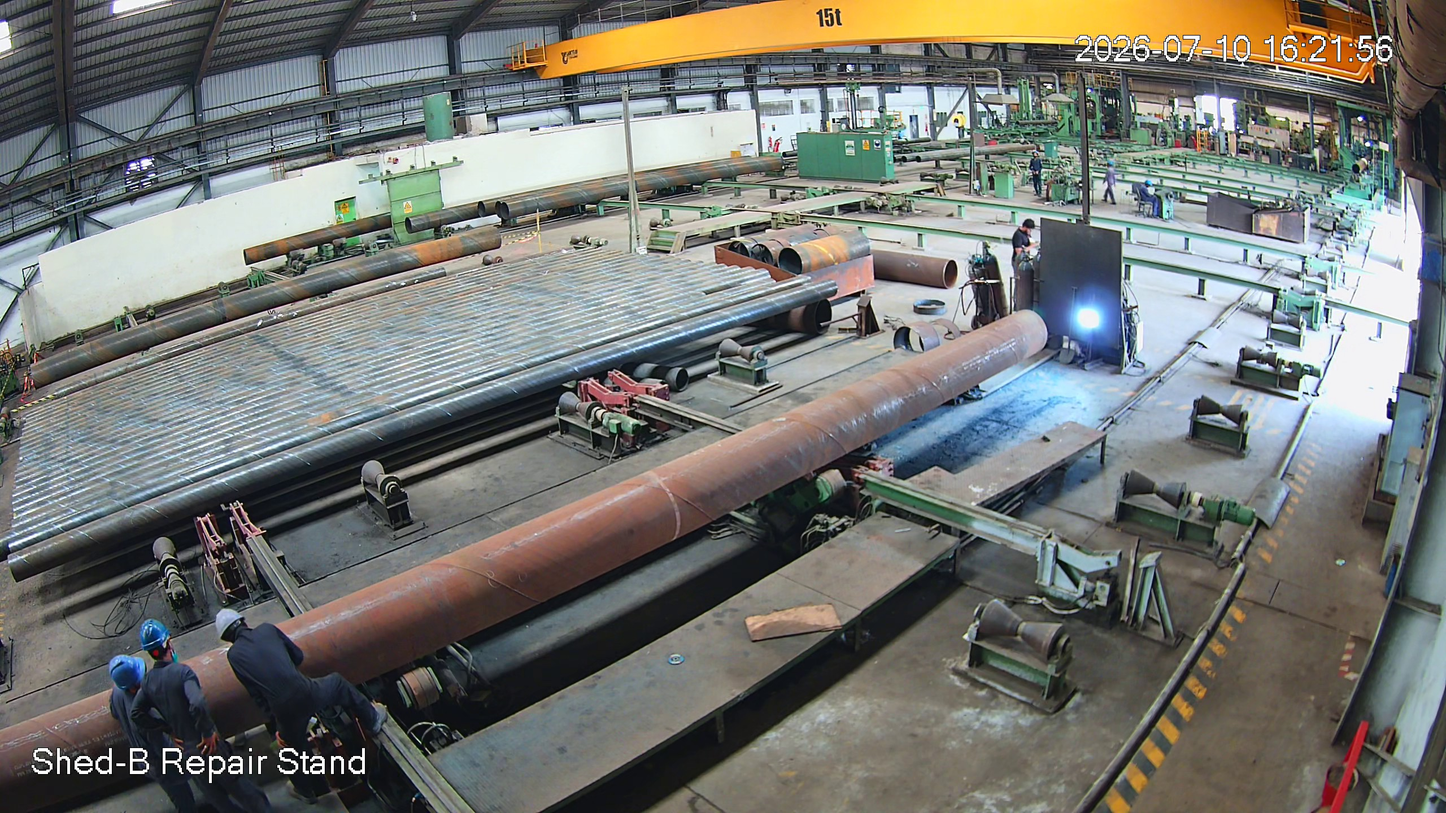Helmet: (95, 641, 173, 716), (131, 611, 186, 665), (213, 606, 262, 644), (1142, 176, 1152, 189), (1031, 150, 1040, 159), (1106, 160, 1113, 171)
Person: (217, 599, 378, 781), (136, 615, 245, 809), (105, 653, 167, 794), (1009, 216, 1037, 273), (1140, 180, 1161, 221), (1030, 151, 1044, 198), (1103, 162, 1117, 205)
